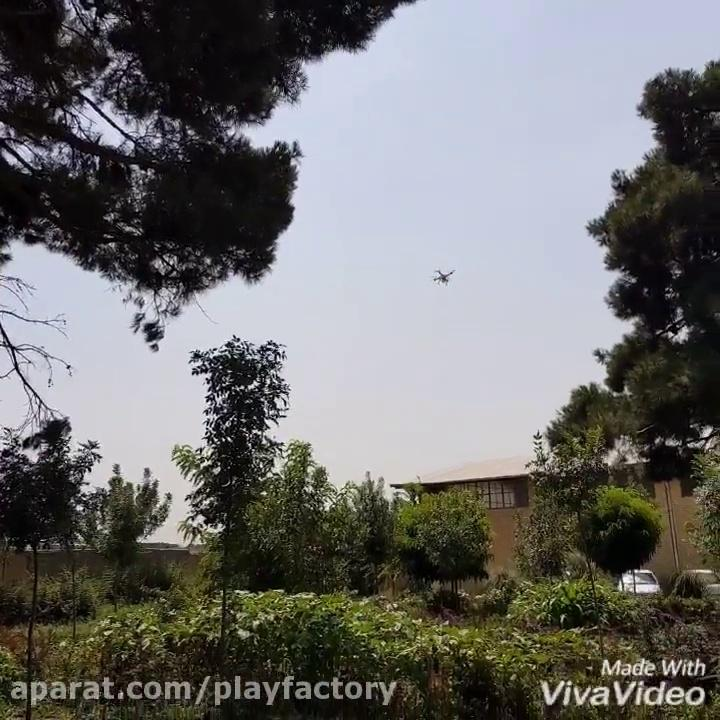drone: (428, 259, 459, 287)
